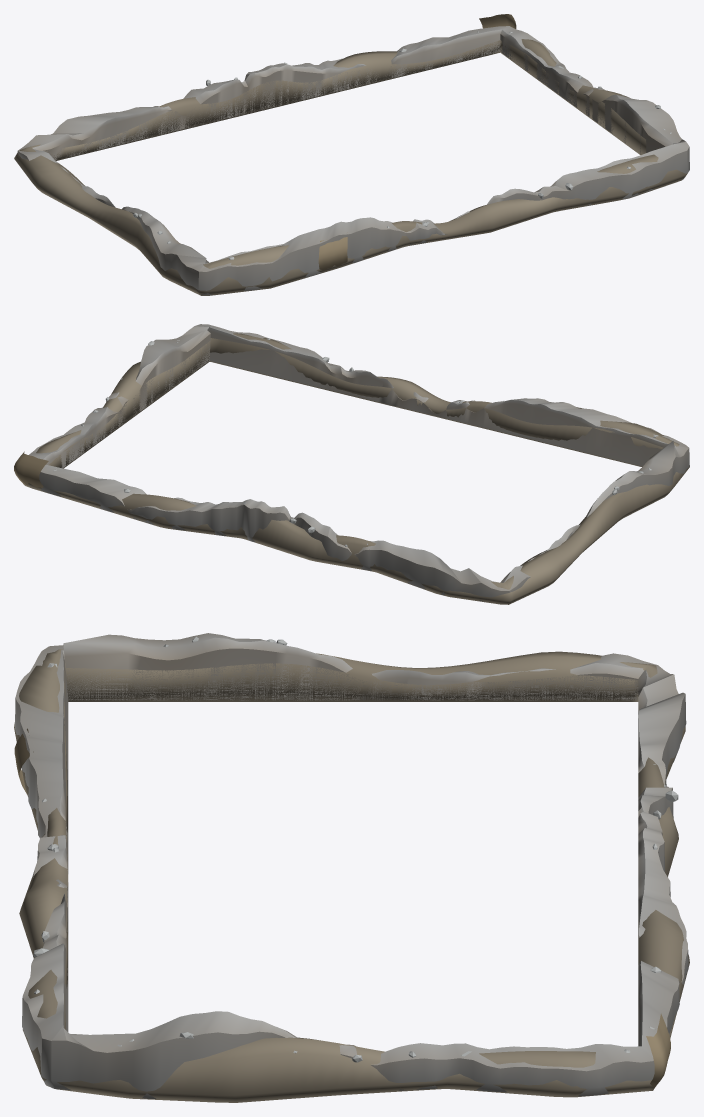
The model's file is b17_jacket.glb.
3 renders of one model, top to bottom at view 1: azimuth 30°, elevation 25°; view 2: azimuth 150°, elevation 25°; view 3: azimuth 270°, elevation 25°, orthographic. The views are drawn at different scales.
Parts seen in each view (by area): view 1: jacket_shell, jacket_contact, jacket_burlap; view 2: jacket_shell, jacket_contact, jacket_burlap; view 3: jacket_shell, jacket_contact, jacket_burlap.
Part boxes in pixels (x1,y1,x2,y2): jacket_shell: (17, 26, 689, 295); jacket_contact: (14, 39, 687, 295); jacket_burlap: (318, 14, 516, 270); jacket_shell: (29, 324, 689, 601); jacket_contact: (23, 333, 689, 604); jacket_burlap: (14, 407, 581, 488); jacket_shell: (15, 633, 688, 1098); jacket_contact: (14, 649, 689, 1102); jacket_burlap: (14, 728, 670, 1087).
Size of the model in its own units: 1.25 by 0.0959 by 0.8311.
